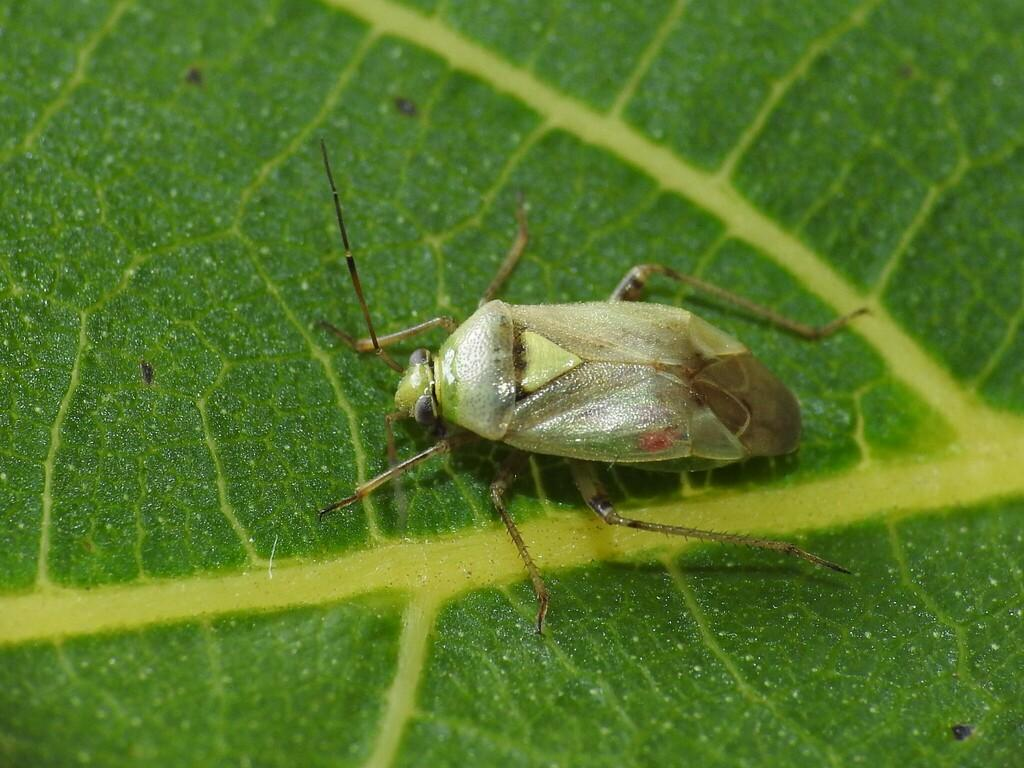plant_bugs: (229, 86, 917, 666)
